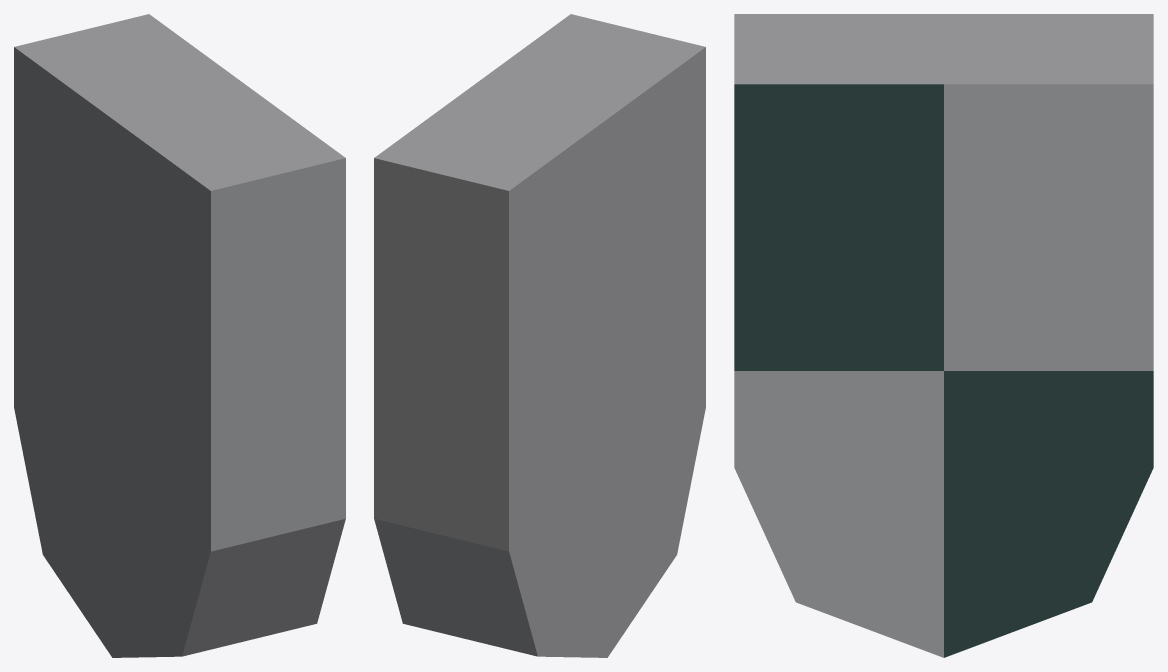
The model's file is Shield_Green_01.obj.
The picture shows the model from 3 angles, left to right: view 1: azimuth 30°, elevation 25°; view 2: azimuth 150°, elevation 25°; view 3: azimuth 270°, elevation 25°; orthographic projection. The views are drawn at different scales.
Parts seen in each view (by area): view 1: Mesh1_Shield_Green_Model; view 2: Mesh1_Shield_Green_Model; view 3: Mesh1_Shield_Green_Model.
Part boxes in pixels (x1=…): Mesh1_Shield_Green_Model: x1=14, y1=14, x2=345, y2=657; Mesh1_Shield_Green_Model: x1=374, y1=14, x2=705, y2=657; Mesh1_Shield_Green_Model: x1=734, y1=14, x2=1153, y2=657.
Bounding box in the file's own units: 0.2 × 0.7625 × 0.5047.
